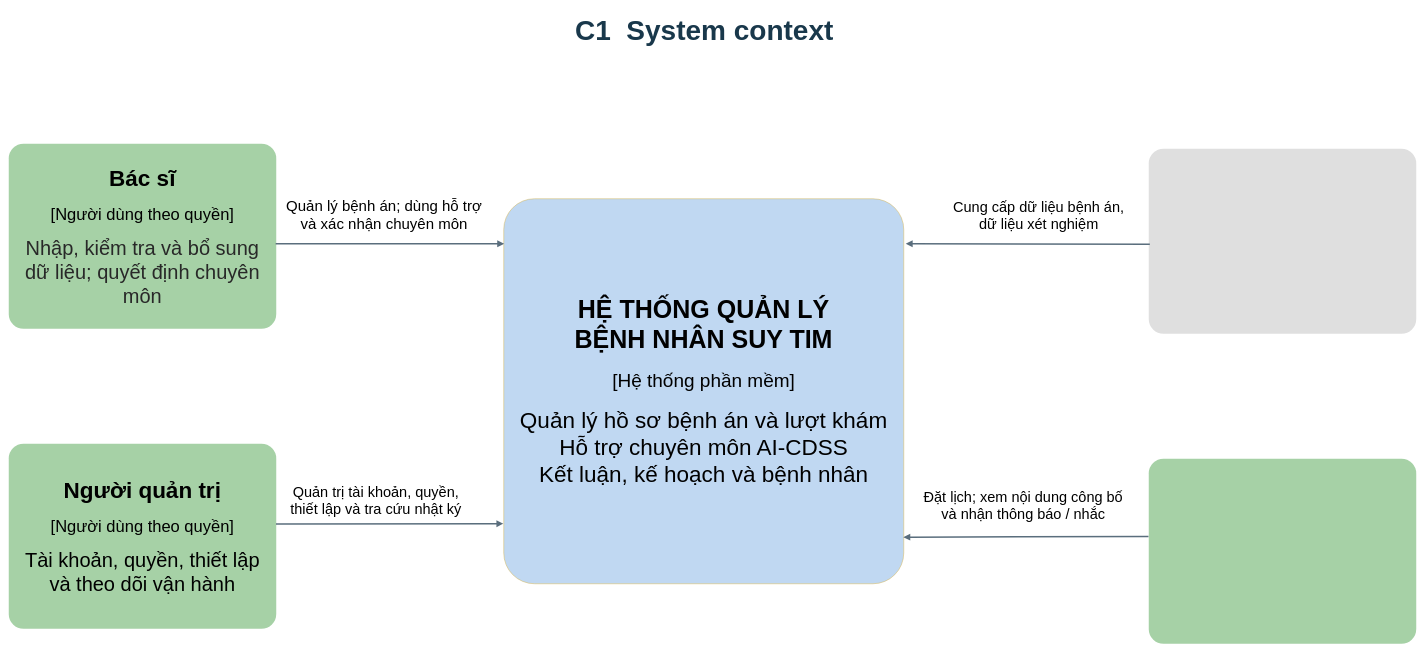
Some shapes in this 1425 by 652 pixel diagram are drawn without their labels. The box of each missing label's shape, as (x1, y1, x2, y2) in pixels:
Bệnh nhân ngoại trú [Người dùng] Đặt lịch, xem kết quả và nhận thông báo / nhắc: (1148, 458, 1416, 644)
HIS [Hệ thống ngoài] Nguồn dữ liệu, bác sĩ đưa file vào sản phẩm: (1148, 148, 1416, 334)
